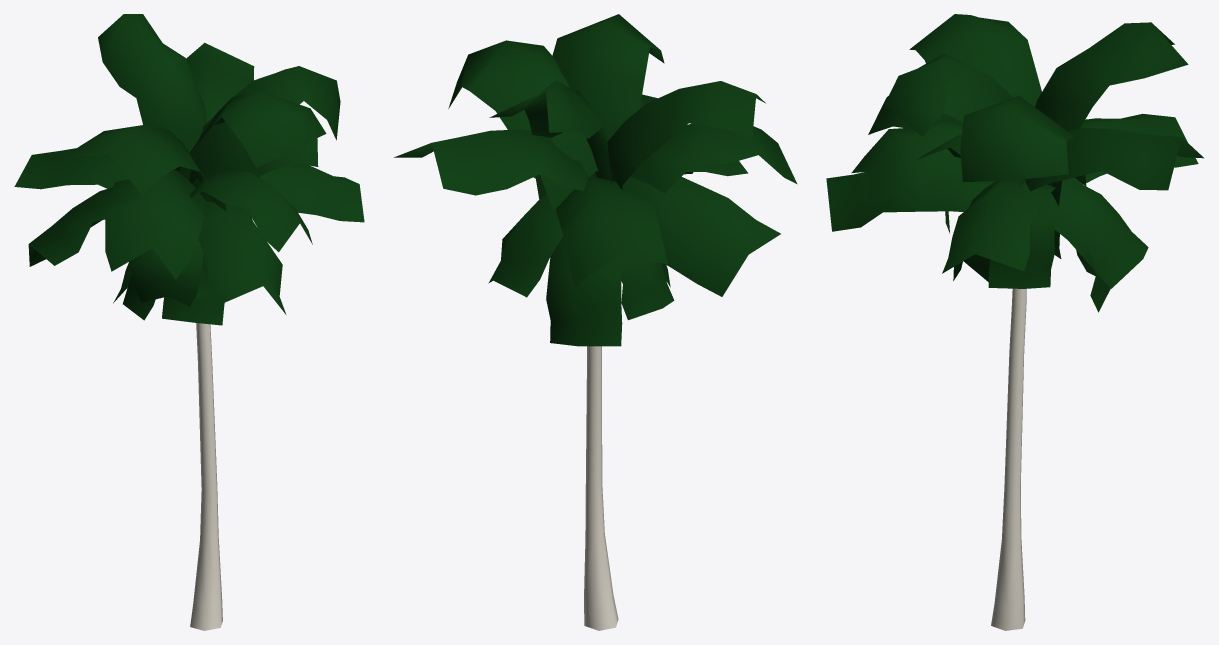
Rendered from tree.dae.
3 views of the same model, side by side, from view 1: azimuth 30°, elevation 25°; view 2: azimuth 150°, elevation 25°; view 3: azimuth 270°, elevation 25° (orthographic). The views are drawn at different scales.
Parts seen in each view (by area): view 1: palma_palma_L1; view 2: palma_palma_L1; view 3: palma_palma_L1.
Part boxes in pixels (<box>): palma_palma_L1: <box>14,14,364,630</box>; palma_palma_L1: <box>394,14,797,630</box>; palma_palma_L1: <box>826,14,1203,630</box>.
Bounding box in the file's own units: 13.88 × 14.02 × 24.32.
